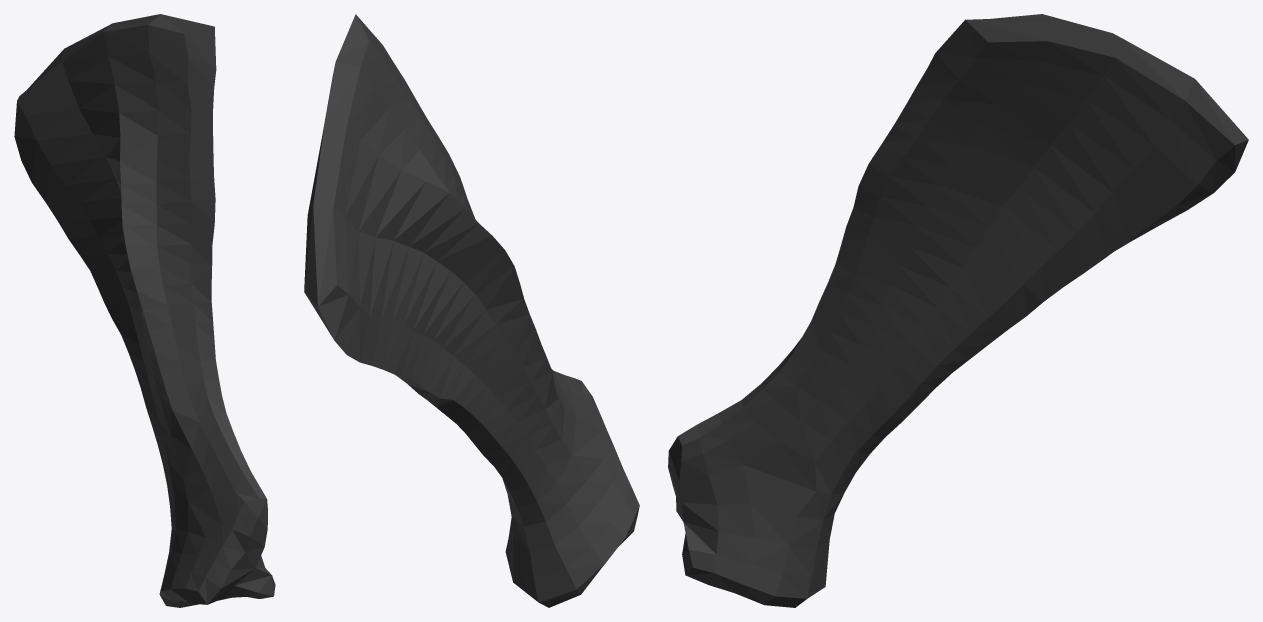
Rendered from RFL_scapula_main.glb.
3 renders of one model, left to right at view 1: azimuth 30°, elevation 25°; view 2: azimuth 150°, elevation 25°; view 3: azimuth 270°, elevation 25°, orthographic. The views are drawn at different scales.
Parts seen in each view (by area): view 1: RFL_scapula_main; view 2: RFL_scapula_main; view 3: RFL_scapula_main.
Boxes of the visible parts, x1,y1,x2,y2 form: RFL_scapula_main: (14,14,275,607); RFL_scapula_main: (304,14,639,607); RFL_scapula_main: (668,14,1248,607).
Size of the model in its own units: 13.46 by 49.42 by 40.99.
Materials: 1 (1 with a texture image).
